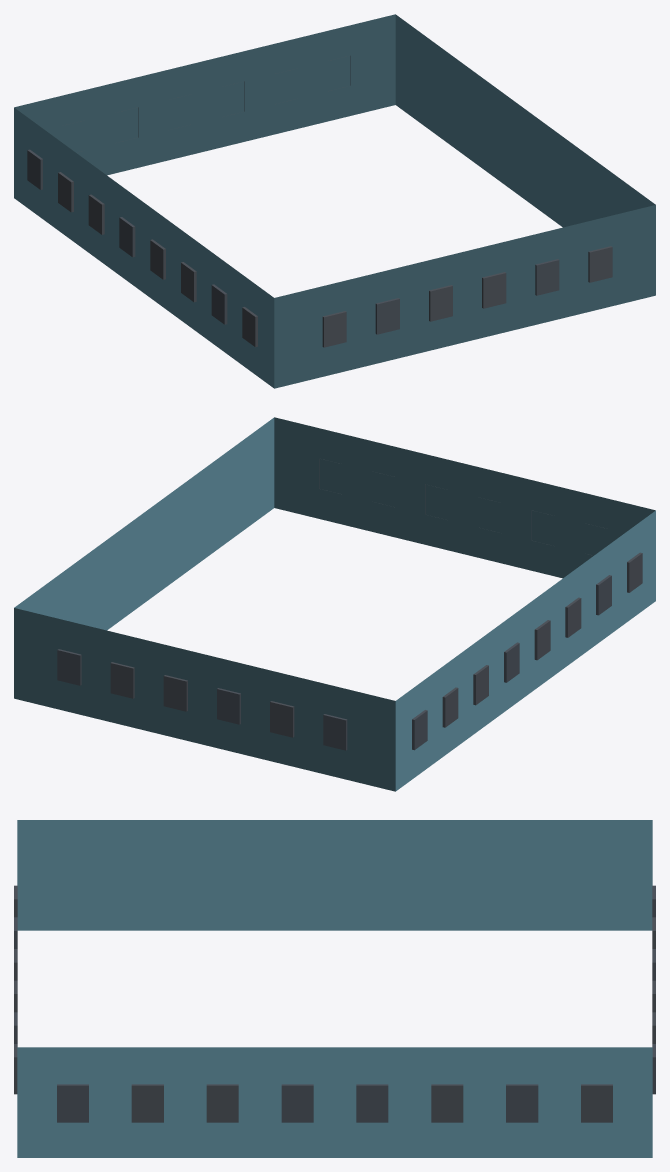
File: TB_CITY_Skysc_S_MidBodyB_Blue.FBX
3 views of the same model, one above another, from view 1: azimuth 30°, elevation 25°; view 2: azimuth 150°, elevation 25°; view 3: azimuth 270°, elevation 25° (orthographic). The views are drawn at different scales.
Parts seen in each view (by area): view 1: TB_CITY_Skysc_S_MidBodyB_Blue; view 2: TB_CITY_Skysc_S_MidBodyB_Blue; view 3: TB_CITY_Skysc_S_MidBodyB_Blue.
Boxes of the visible parts, x1,y1,x2,y2 form: TB_CITY_Skysc_S_MidBodyB_Blue: [14, 14, 655, 388]; TB_CITY_Skysc_S_MidBodyB_Blue: [14, 417, 655, 791]; TB_CITY_Skysc_S_MidBodyB_Blue: [14, 820, 655, 1157].
Size of the model in its own units: 22.32 by 5 by 26.28.
